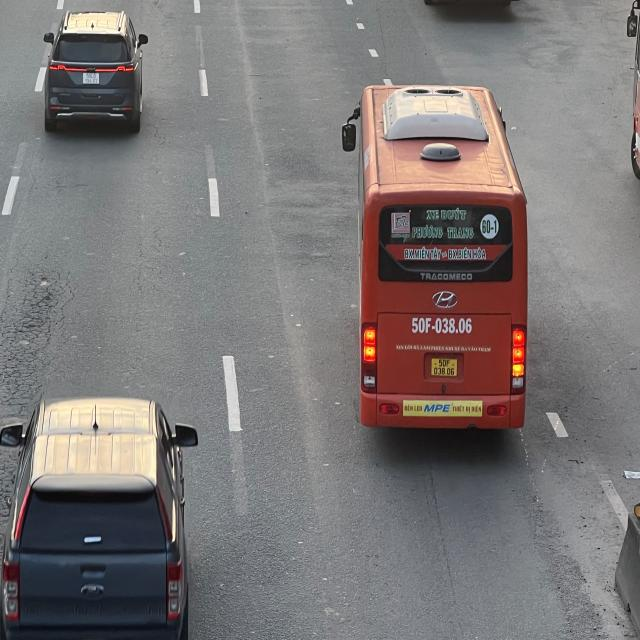car: (0, 392, 201, 636), (40, 11, 147, 135)
coach: (348, 89, 527, 440)
